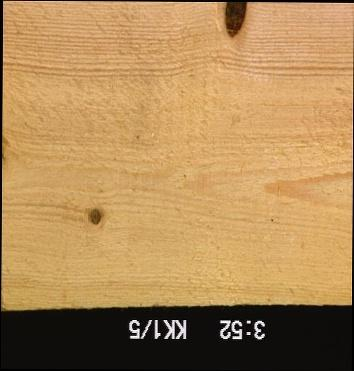sound_knot: (87, 207, 101, 226)
